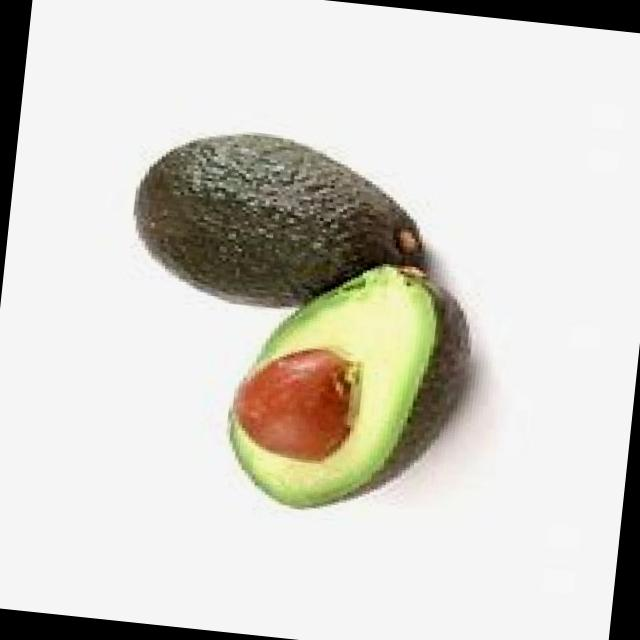avocado: (122, 113, 442, 334), (219, 252, 477, 522)
